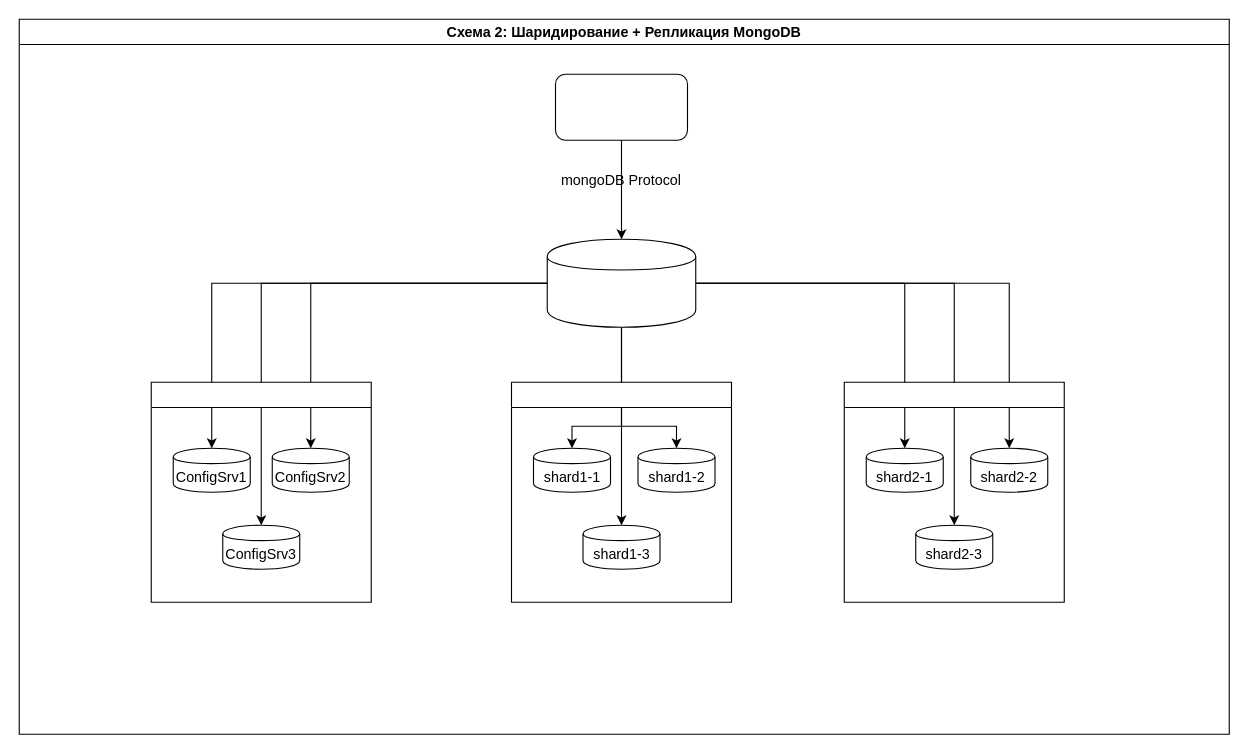
This 1249x754 diagram has some shape labels left out. Each missing label, with the box of its shape:
Config Server Repica Set: (150, 381, 371, 602)
Mongos router: (546, 238, 696, 327)
pymongo-api: (554, 73, 688, 140)
Shard 1 Replica Set: (510, 381, 732, 602)
Shard 2 Replica Set: (843, 381, 1064, 602)
